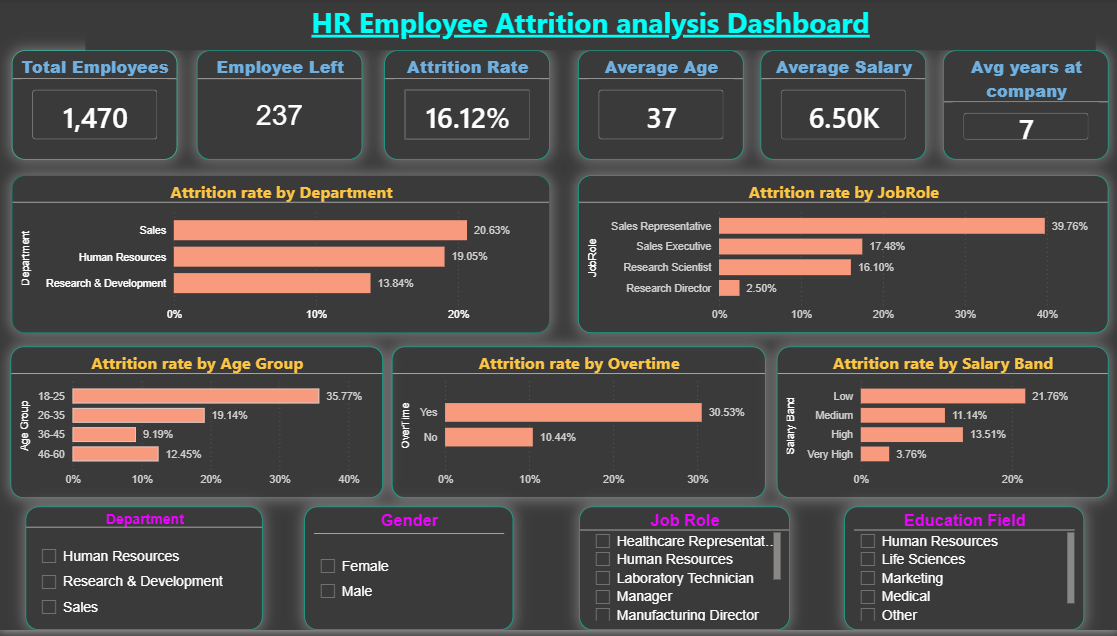

The dashboard page shown, as its layout file describes it:
{"tool":"powerbi","page":{"name":"Executive Overview Analysis","canvas":[1280,720],"ordinal":0},"visuals":[{"type":"cardVisual","title":"Total Employees","fields":{"Data":["Count(WA_Fn-UseC_-HR-Employee-Attrition.EmployeeNumber)"]},"box":[16,58.2,189.1,125.1],"z":0},{"type":"kpi","title":"Employee Left","fields":{"TrendLine":["WA_Fn-UseC_-HR-Employee-Attrition.Attrition"],"Indicator":["CountNonNull(WA_Fn-UseC_-HR-Employee-Attrition.Attrition)"]},"box":[226.9,58.2,189.1,125.1],"z":1000},{"type":"cardVisual","title":"Attrition Rate","fields":{"Data":["WA_Fn-UseC_-HR-Employee-Attrition.Attrition rate"]},"box":[440.7,58.2,189.1,125.1],"z":2000},{"type":"cardVisual","title":"Average Age","fields":{"Data":["WA_Fn-UseC_-HR-Employee-Attrition.average age"]},"box":[661.8,58.2,189.1,125.1],"z":3000},{"type":"cardVisual","title":"Average Salary","fields":{"Data":["WA_Fn-UseC_-HR-Employee-Attrition.Average Salaray"]},"box":[869.8,58.2,189.1,125.1],"z":4000},{"type":"cardVisual","title":"Avg years at company","fields":{"Data":["Avg(WA_Fn-UseC_-HR-Employee-Attrition.YearsAtCompany)"]},"box":[1077.8,58.2,189.1,125.1],"z":5000},{"type":"barChart","fields":{"Category":["WA_Fn-UseC_-HR-Employee-Attrition.Department"],"Y":["WA_Fn-UseC_-HR-Employee-Attrition.Attrition rate"]},"box":[16,200.7,613.8,180.4],"z":6000},{"type":"clusteredBarChart","title":"Attrition rate by Overtime","fields":{"Category":["WA_Fn-UseC_-HR-Employee-Attrition.OverTime"],"Y":["WA_Fn-UseC_-HR-Employee-Attrition.Attrition rate"]},"box":[449.5,395.6,426.2,173.1],"z":7000},{"type":"clusteredBarChart","fields":{"Y":["WA_Fn-UseC_-HR-Employee-Attrition.Attrition rate"],"Category":["WA_Fn-UseC_-HR-Employee-Attrition.Age Group"]},"box":[14.5,395.6,424.7,173.1],"z":8000},{"type":"clusteredBarChart","fields":{"Category":["WA_Fn-UseC_-HR-Employee-Attrition.JobRole"],"Y":["WA_Fn-UseC_-HR-Employee-Attrition.Attrition rate"]},"box":[661.8,200.7,605.1,180.4],"z":9000},{"type":"clusteredBarChart","fields":{"Category":["WA_Fn-UseC_-HR-Employee-Attrition.Salary Band"],"Y":["WA_Fn-UseC_-HR-Employee-Attrition.Attrition rate"]},"box":[888.7,395.6,378.2,173.1],"z":10000},{"type":"textbox","box":[100.4,0,1152,58.2],"z":11000},{"type":"slicer","title":"Department","fields":{"Values":["WA_Fn-UseC_-HR-Employee-Attrition.Department"]},"box":[32,578.9,270.5,141.1],"z":12000},{"type":"slicer","title":"Gender","fields":{"Values":["WA_Fn-UseC_-HR-Employee-Attrition.Gender"]},"box":[349.1,578.9,238.5,141.1],"z":13000},{"type":"slicer","title":"Job Role","fields":{"Values":["WA_Fn-UseC_-HR-Employee-Attrition.JobRole"]},"box":[663.3,578.9,240,141.1],"z":14000},{"type":"slicer","title":"Education Field","fields":{"Values":["WA_Fn-UseC_-HR-Employee-Attrition.EducationField"]},"box":[964.4,578.9,273.5,141.1],"z":15000}]}

Visuals, with their boxes in screenshot pixels (x1, y1, x2, y2), scaled from the page's 1280x720 canvas onto the 1117x636 screenshot:
"Total Employees" cardVisual: Rect(14, 51, 179, 162)
"Employee Left" kpi: Rect(198, 51, 363, 162)
"Attrition Rate" cardVisual: Rect(385, 51, 550, 162)
"Average Age" cardVisual: Rect(578, 51, 743, 162)
"Average Salary" cardVisual: Rect(759, 51, 924, 162)
"Avg years at company" cardVisual: Rect(941, 51, 1106, 162)
barChart - WA_Fn-UseC_-HR-Employee-Attrition.Department x WA_Fn-UseC_-HR-Employee-Attrition.Attrition rate: Rect(14, 177, 550, 337)
"Attrition rate by Overtime" clusteredBarChart: Rect(392, 349, 764, 502)
clusteredBarChart - WA_Fn-UseC_-HR-Employee-Attrition.Attrition rate x WA_Fn-UseC_-HR-Employee-Attrition.Age Group: Rect(13, 349, 383, 502)
clusteredBarChart - WA_Fn-UseC_-HR-Employee-Attrition.JobRole x WA_Fn-UseC_-HR-Employee-Attrition.Attrition rate: Rect(578, 177, 1106, 337)
clusteredBarChart - WA_Fn-UseC_-HR-Employee-Attrition.Salary Band x WA_Fn-UseC_-HR-Employee-Attrition.Attrition rate: Rect(776, 349, 1106, 502)
textbox: Rect(88, 0, 1093, 51)
"Department" slicer: Rect(28, 511, 264, 635)
"Gender" slicer: Rect(305, 511, 513, 635)
"Job Role" slicer: Rect(579, 511, 788, 635)
"Education Field" slicer: Rect(842, 511, 1080, 635)
